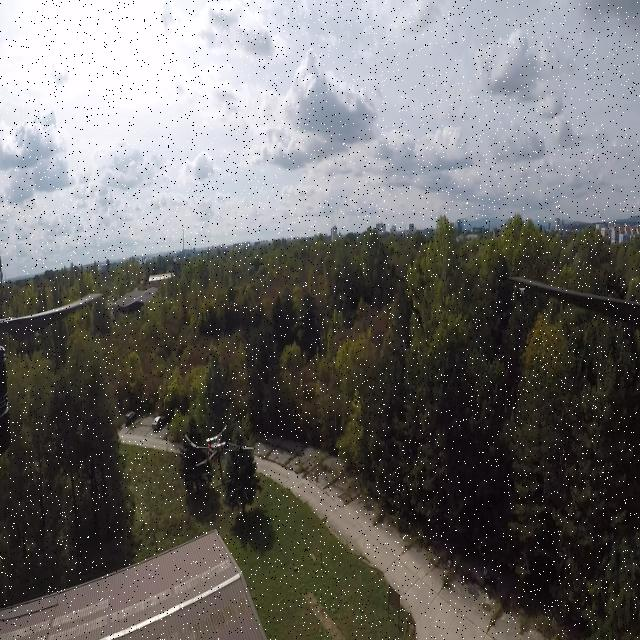UAV: (181, 418, 255, 498)
